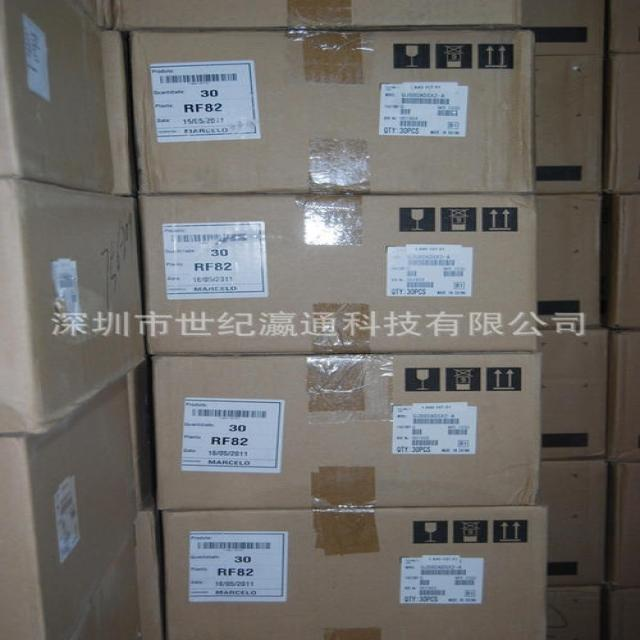box: (130, 29, 535, 194), (138, 194, 538, 355), (152, 352, 543, 510), (163, 505, 549, 639), (0, 178, 145, 434), (0, 373, 137, 639), (0, 0, 133, 194), (114, 0, 524, 32), (534, 55, 603, 193), (538, 330, 608, 459), (537, 193, 602, 328), (539, 460, 607, 586), (68, 524, 142, 639), (606, 52, 639, 194), (522, 0, 605, 56), (606, 329, 639, 462), (133, 503, 163, 639), (608, 462, 639, 587), (128, 360, 152, 512), (614, 194, 639, 328), (545, 586, 600, 639), (609, 0, 639, 52), (609, 588, 639, 638)
